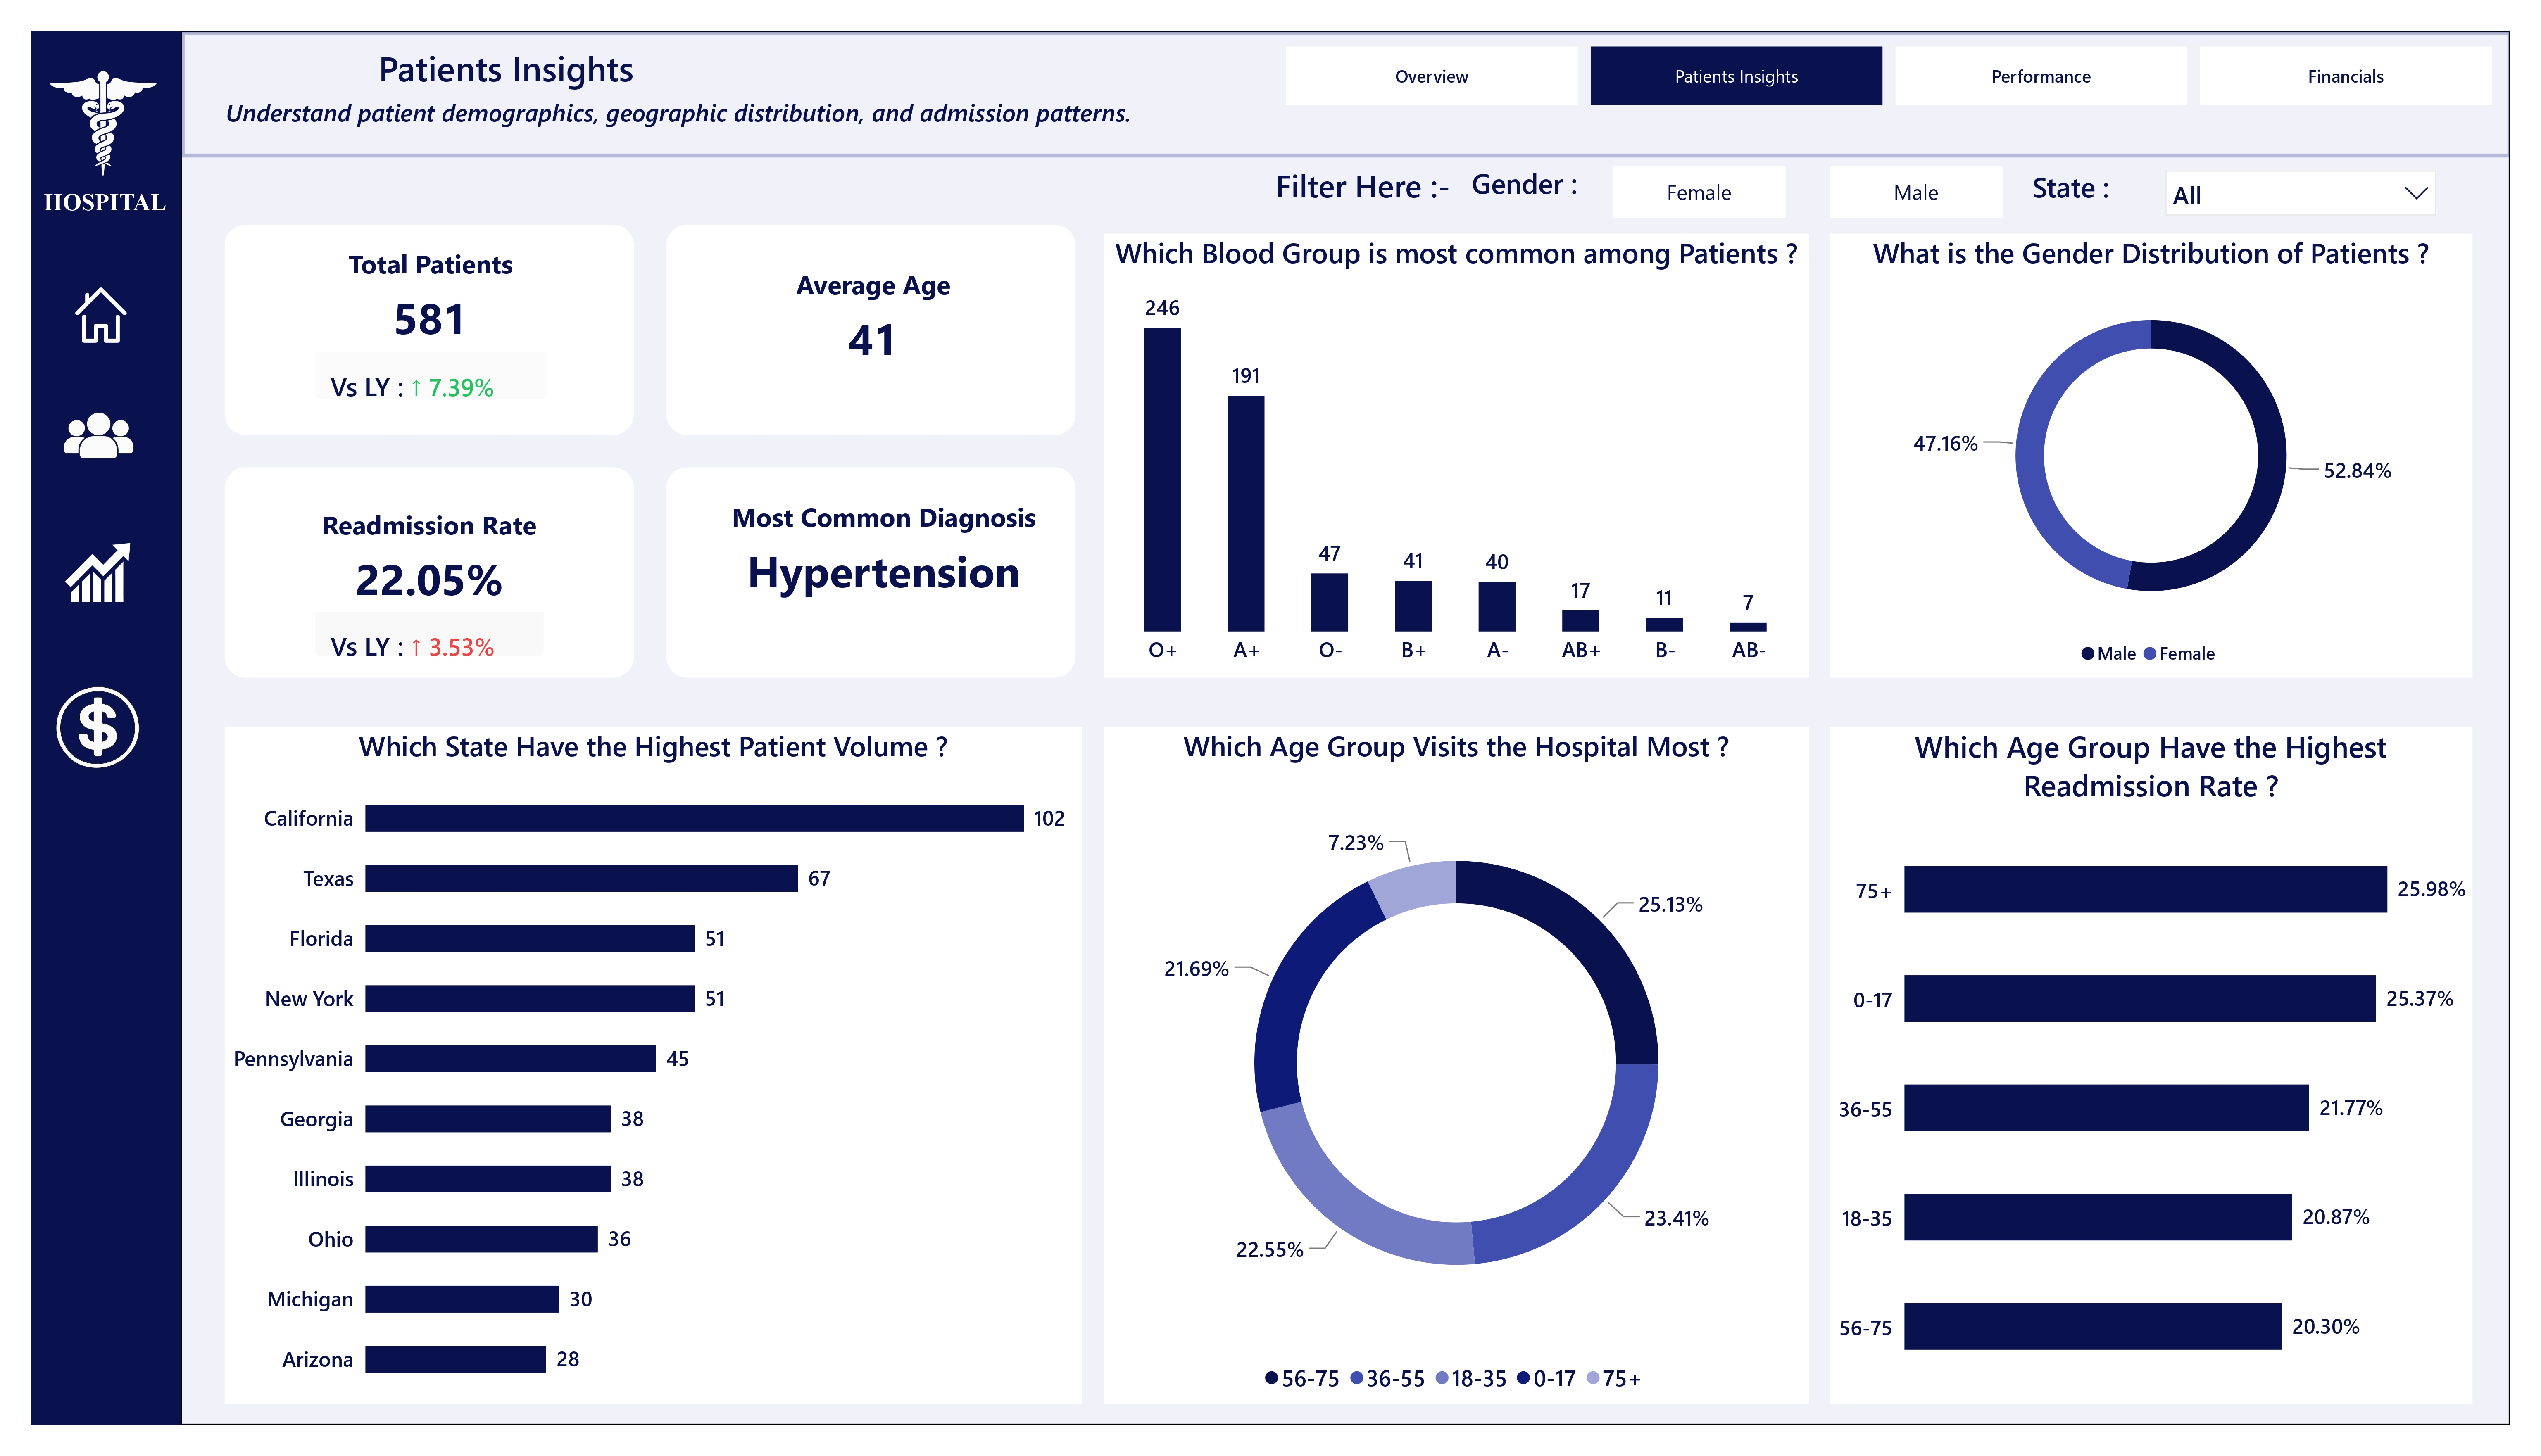

This screenshot's page, from the dashboard's own definition file:
{"tool":"powerbi","page":{"name":"Patients Insights","canvas":[1920,1080],"ordinal":1},"visuals":[{"type":"shape","box":[115.8,0,1803.8,1080],"z":0},{"type":"pageNavigator","box":[971.7,11.7,936.7,45],"z":1000},{"type":"advancedSlicerVisual","fields":{"Values":["Dim_Patients.Gender"]},"box":[1207,86.9,338,76],"z":2000},{"type":"textbox","box":[959.1,97.7,209.9,59.7],"z":3000},{"type":"image","box":[12.3,360.9,79.6,116.6],"z":4000},{"type":"image","box":[20.6,256.6,63.1,113.9],"z":5000},{"type":"image","box":[0,134.5,108.4,171.5],"z":6000},{"type":"image","box":[16.5,496.7,71.4,86.4],"z":7000},{"type":"textbox","box":[83.8,4.6,568.5,51.5],"z":8000},{"type":"image","box":[12.3,11,87.8,120.8],"z":9000},{"type":"textbox","box":[0,116.6,115.3,34.3],"z":10000},{"type":"textbox","box":[99.5,45.2,803.5,41.6],"z":11000},{"type":"shape","box":[150.2,338.4,316.7,162.9],"z":12000},{"type":"slicer","fields":{"Values":["Dim_Patients.State"]},"box":[1643.2,97.7,230,70],"z":13000},{"type":"textbox","box":[1545.5,101.3,114,41.6],"z":14000},{"type":"textbox","box":[1111.1,97.7,114.3,60],"z":15000},{"type":"donutChart","title":"What is the Gender Distribution of Patients ?","fields":{"Category":["Dim_Patients.Gender"],"Y":["Fact_Admissions.Total Patients"]},"box":[1393.4,157.4,497.7,343.8],"z":16000},{"type":"donutChart","title":"Which Age Group Visits the Hospital Most ?","fields":{"Category":["Dim_Patients.Age Group"],"Y":["Fact_Admissions.Total Patients"]},"box":[830.6,539.3,546.5,524.8],"z":17000},{"type":"clusteredBarChart","title":"Which State Have the Highest Patient Volume ?","fields":{"Category":["Dim_Patients.State"],"Y":["Fact_Admissions.Total Patients"]},"box":[150.2,539.3,664.1,524.8],"z":18000},{"type":"columnChart","title":"Which Blood Group is most common among Patients ?","fields":{"Category":["Dim_Patients.BloodGroup"],"Y":["CountNonNull(Dim_Patients.Age Group)"]},"box":[830.6,157.4,546.5,343.8],"z":19000},{"type":"clusteredBarChart","title":"Which Age Group Have the Highest Readmission Rate ?","fields":{"Category":["Dim_Patients.Age Group"],"Y":["Fact_Admissions.Readmission Rate"]},"box":[1393.4,539.3,497.7,524.8],"z":20000},{"type":"shape","box":[150.2,150.2,316.7,162.9],"z":21000},{"type":"shape","box":[492.2,150.2,316.7,162.9],"z":22000},{"type":"shape","box":[492.2,338.4,316.7,162.9],"z":23000},{"type":"cardVisual","fields":{"Data":["Fact_Admissions.Total Patients"]},"box":[191.8,157.4,235.3,155.6],"z":24000},{"type":"cardVisual","fields":{"Data":["Fact_Admissions.Average Age"]},"box":[517.6,143,269.6,155.6],"z":25000},{"type":"cardVisual","fields":{"Data":["Fact_Admissions.Readmission Rate"]},"box":[192,360,233.4,152],"z":26000},{"type":"cardVisual","fields":{"Data":["Fact_Admissions.Most Common Diagnosis"]},"box":[506.7,284.1,307.6,235.3],"z":27000},{"type":"shape","box":[115.8,0,1805,97.5],"z":28000}]}

Visuals, with their boxes on the page's 1920x1080 design canvas (x1, y1, x2, y2). These are canvas units, not pixel positions in the 2541x1456 screenshot, which may show the page scaled, cropped or inside an application window:
shape: (116,0,1920,1080)
pageNavigator: (972,12,1908,57)
advancedSlicerVisual - Dim_Patients.Gender: (1207,87,1545,163)
textbox: (959,98,1169,157)
image: (12,361,92,478)
image: (21,257,84,370)
image: (0,134,108,306)
image: (16,497,88,583)
textbox: (84,5,652,56)
image: (12,11,100,132)
textbox: (0,117,115,151)
textbox: (100,45,903,87)
shape: (150,338,467,501)
slicer - Dim_Patients.State: (1643,98,1873,168)
textbox: (1546,101,1660,143)
textbox: (1111,98,1225,158)
"What is the Gender Distribution of Patients ?" donutChart: (1393,157,1891,501)
"Which Age Group Visits the Hospital Most ?" donutChart: (831,539,1377,1064)
"Which State Have the Highest Patient Volume ?" clusteredBarChart: (150,539,814,1064)
"Which Blood Group is most common among Patients ?" columnChart: (831,157,1377,501)
"Which Age Group Have the Highest Readmission Rate ?" clusteredBarChart: (1393,539,1891,1064)
shape: (150,150,467,313)
shape: (492,150,809,313)
shape: (492,338,809,501)
cardVisual - Fact_Admissions.Total Patients: (192,157,427,313)
cardVisual - Fact_Admissions.Average Age: (518,143,787,299)
cardVisual - Fact_Admissions.Readmission Rate: (192,360,425,512)
cardVisual - Fact_Admissions.Most Common Diagnosis: (507,284,814,519)
shape: (116,0,1921,98)
